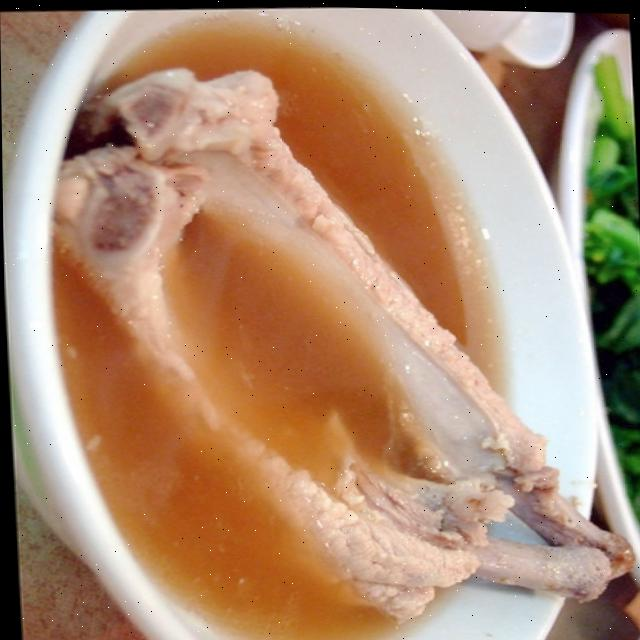汤锅炖物: (33, 24, 591, 636)
